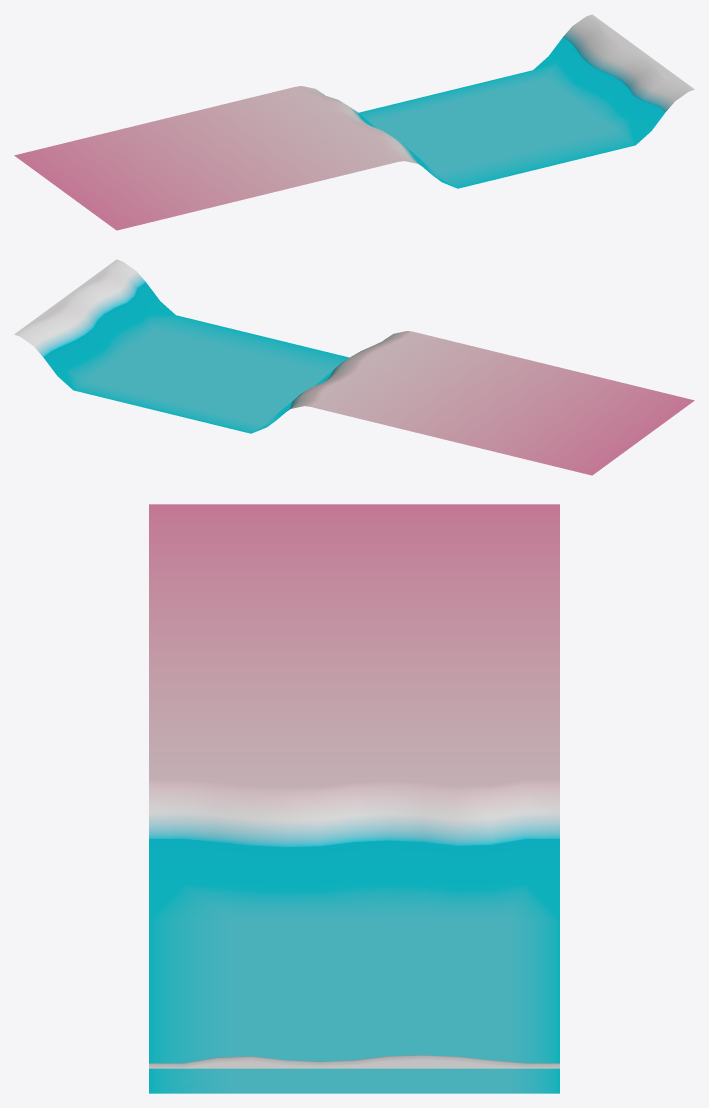
The model's file is Side-forest-water_mid_01.glb.
The picture shows the model from 3 angles, top to bottom: view 1: azimuth 30°, elevation 25°; view 2: azimuth 150°, elevation 25°; view 3: azimuth 270°, elevation 25°; orthographic projection. The views are drawn at different scales.
Visible parts, largest first — view 1: Side-forest-water_mid_01; view 2: Side-forest-water_mid_01; view 3: Side-forest-water_mid_01.
Part boxes in pixels (x1,y1,x2,y2): Side-forest-water_mid_01: (14,14,694,230); Side-forest-water_mid_01: (14,259,694,475); Side-forest-water_mid_01: (149,504,559,1093).
Bounding box in the file's own units: 58.5 × 4 × 18.
